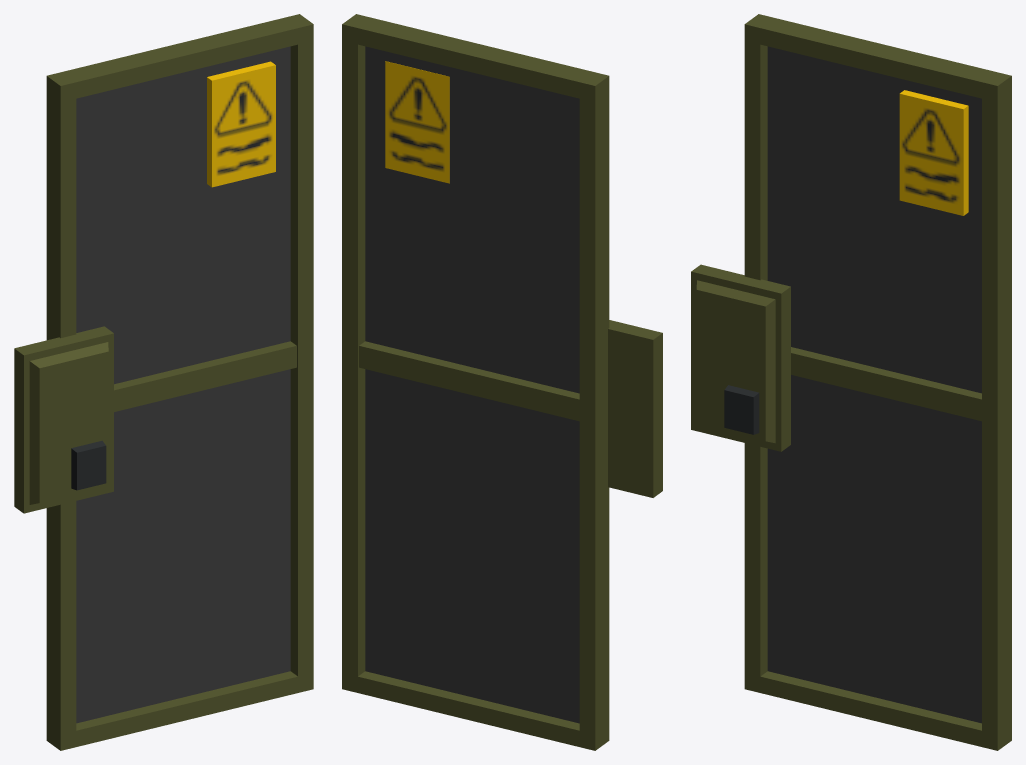
Rendered from SM_Prop_Gunlocker_Door_02.glb.
3 views of the same model, side by side, from view 1: azimuth 30°, elevation 25°; view 2: azimuth 150°, elevation 25°; view 3: azimuth 330°, elevation 25° (orthographic).
Parts seen in each view (by area): view 1: SM_Prop_Gunlocker_Door_02; view 2: SM_Prop_Gunlocker_Door_02; view 3: SM_Prop_Gunlocker_Door_02.
Boxes of the visible parts, x1,y1,x2,y2 form: SM_Prop_Gunlocker_Door_02: (14, 14, 313, 750); SM_Prop_Gunlocker_Door_02: (342, 14, 662, 750); SM_Prop_Gunlocker_Door_02: (691, 14, 1011, 750).
Bounding box in the file's own units: 0.7863 × 1.67 × 0.1478.
Materials: 2 (2 with a texture image).
